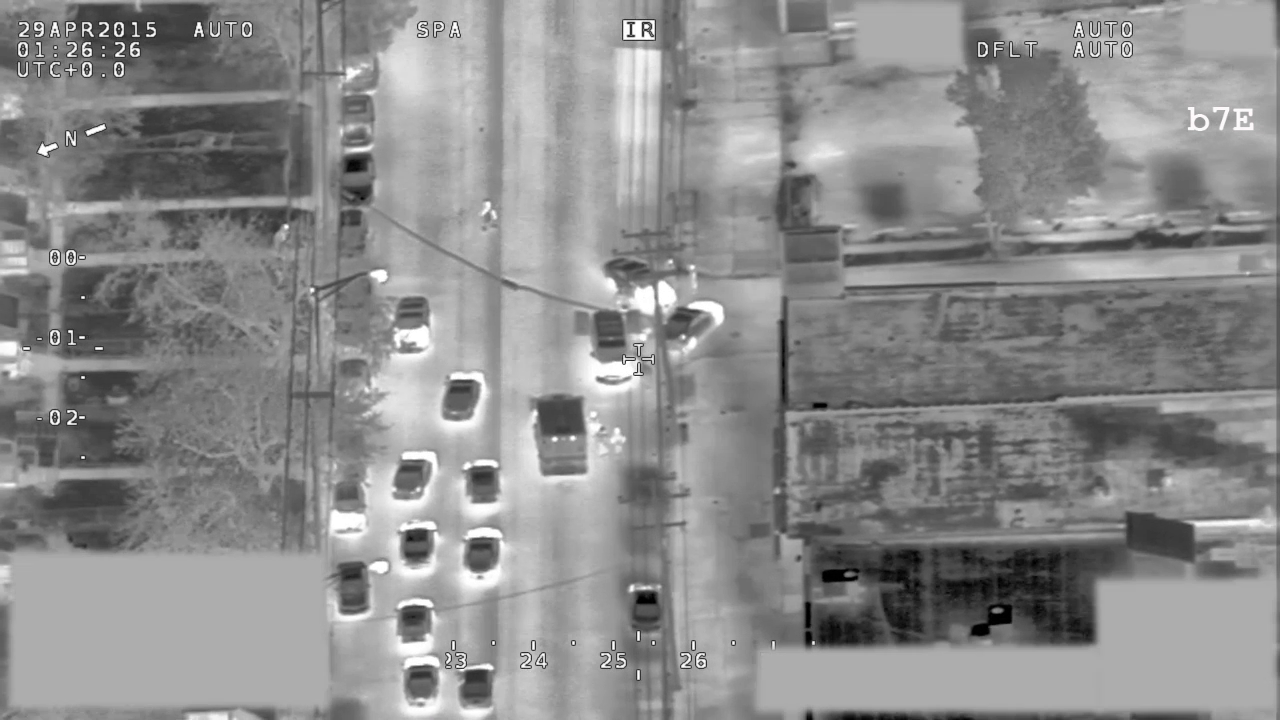vehicle: (571, 311, 641, 389), (533, 395, 591, 478), (598, 253, 677, 311), (658, 297, 727, 358), (332, 273, 375, 353), (329, 479, 372, 540), (461, 525, 504, 586), (443, 369, 488, 427), (391, 450, 439, 504), (394, 597, 436, 657), (455, 659, 497, 718), (394, 519, 438, 574), (399, 658, 442, 714), (336, 560, 375, 619), (337, 91, 377, 147), (394, 295, 431, 354), (460, 459, 503, 509), (627, 582, 665, 636), (335, 205, 371, 262), (338, 151, 376, 204)
